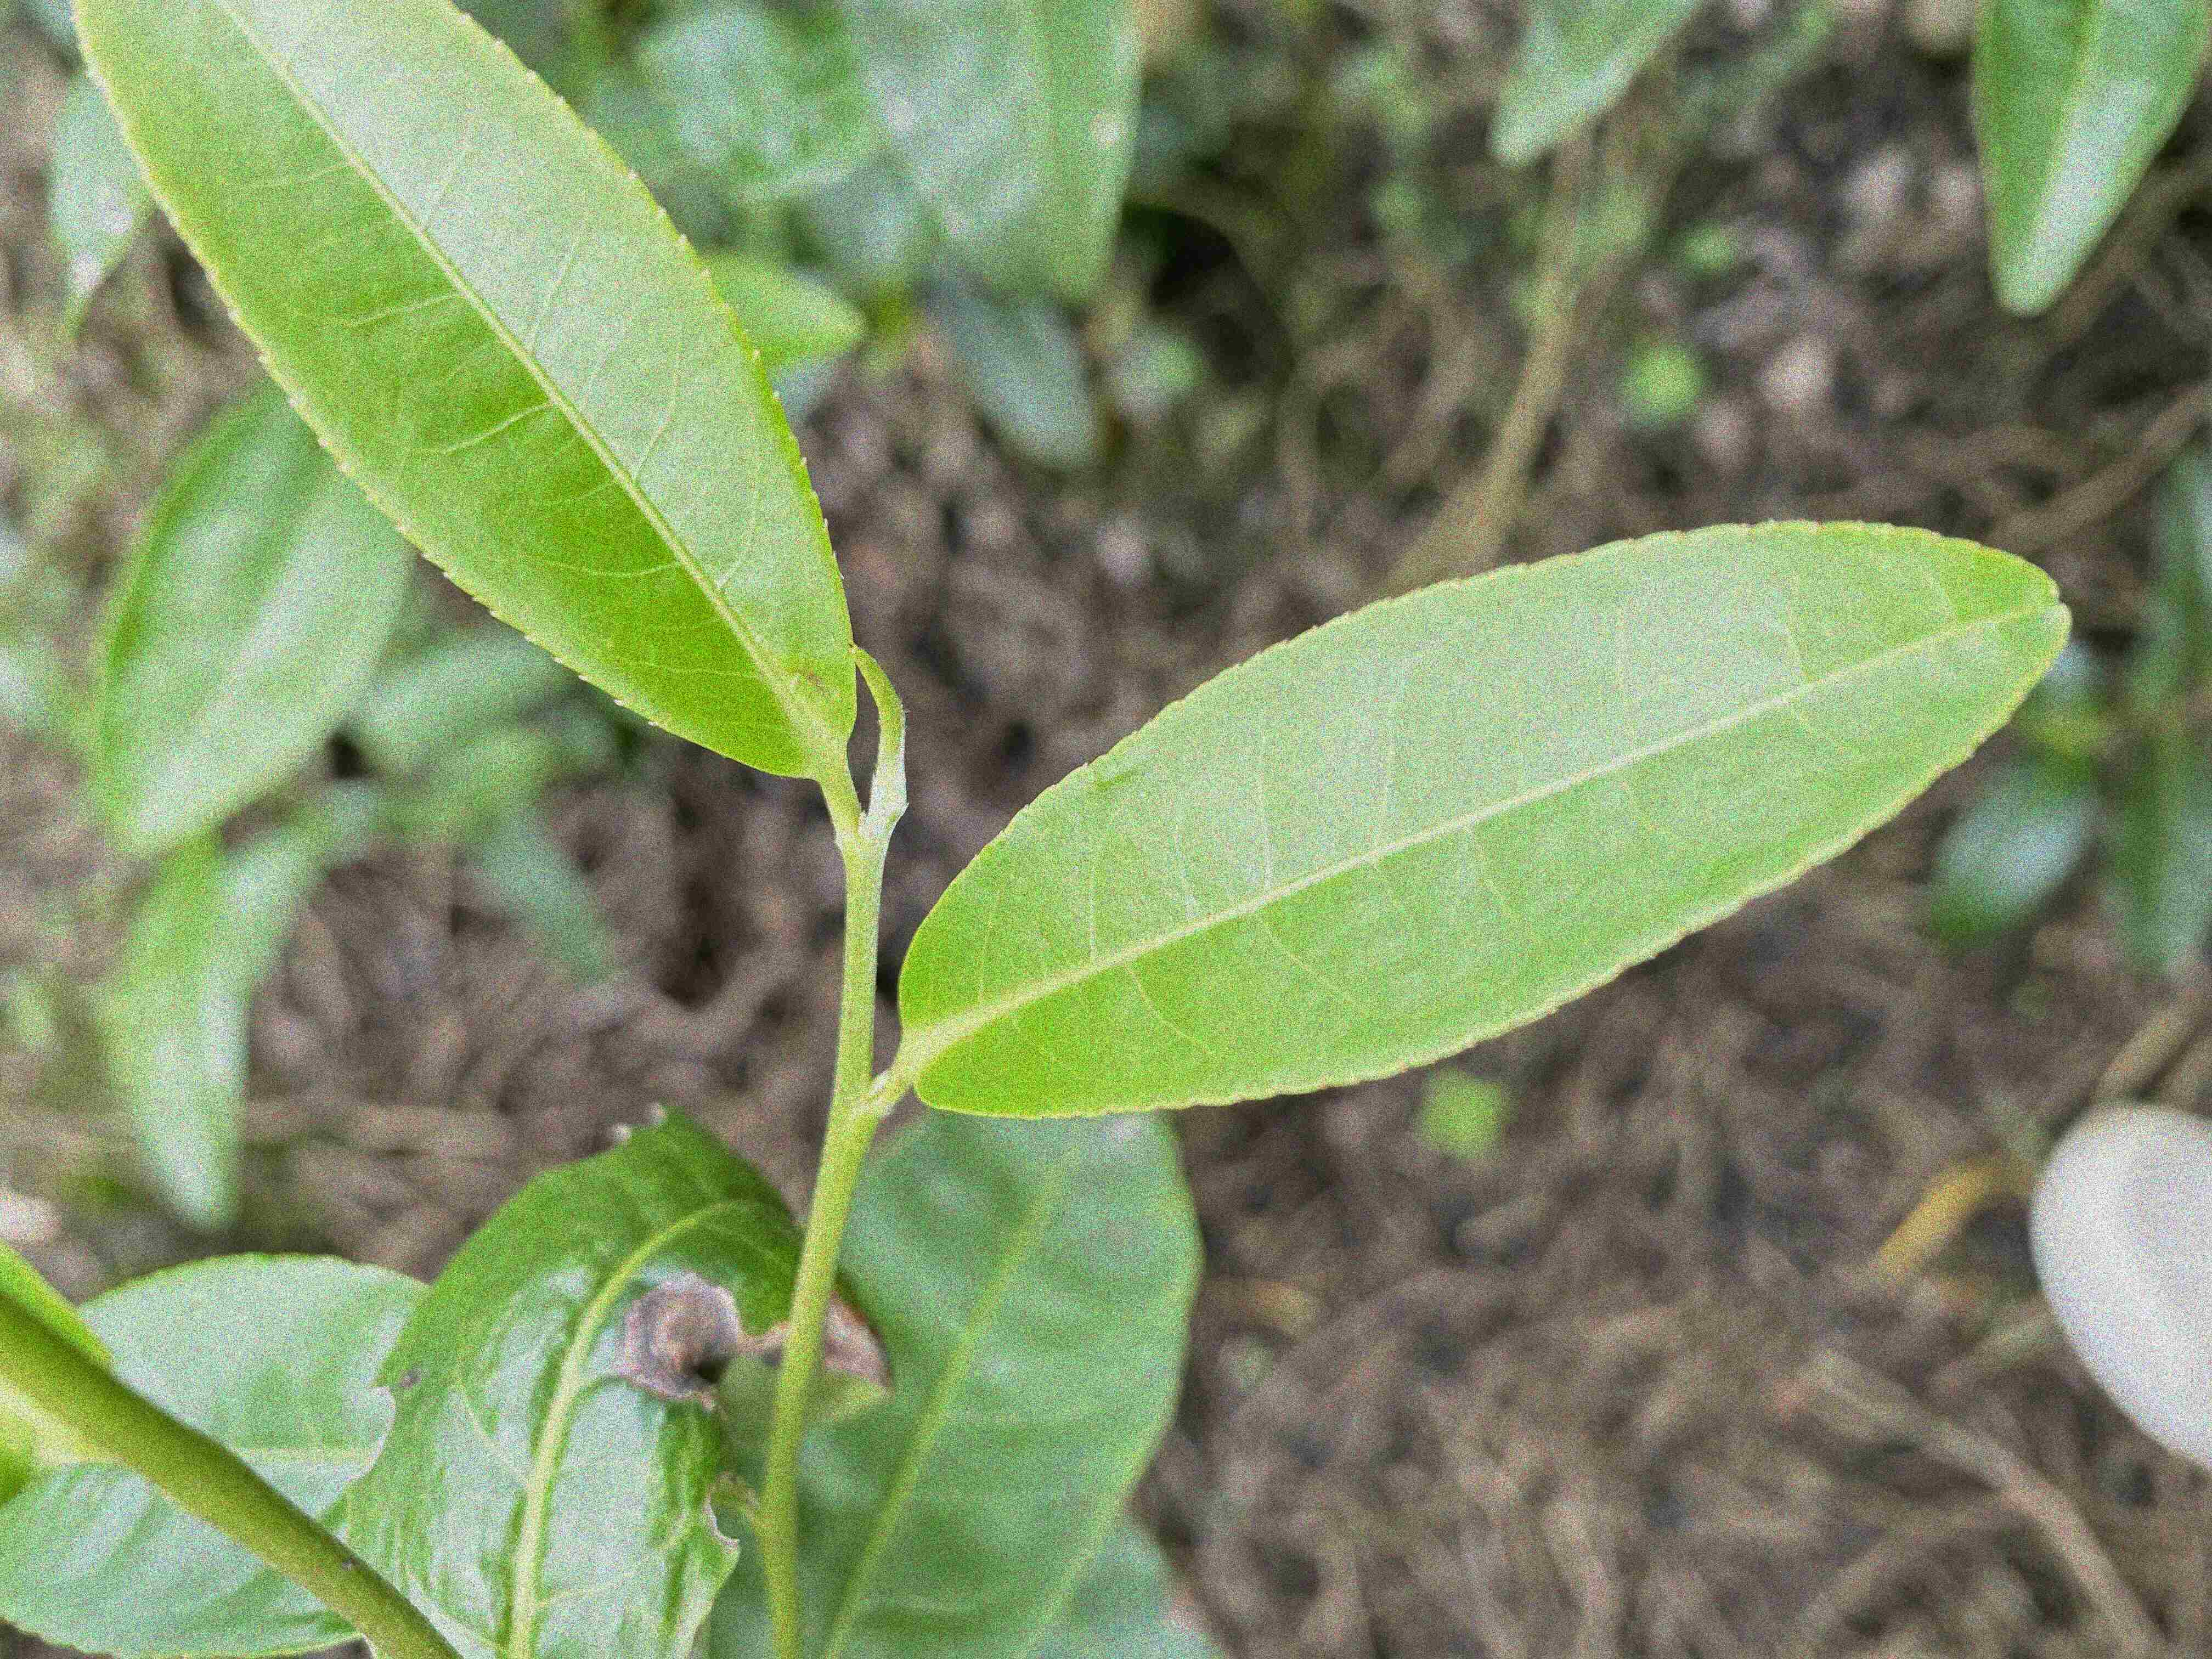healthy: (899, 518, 2074, 1122), (64, 5, 859, 782)
tanju_high: (343, 1096, 899, 1656)
